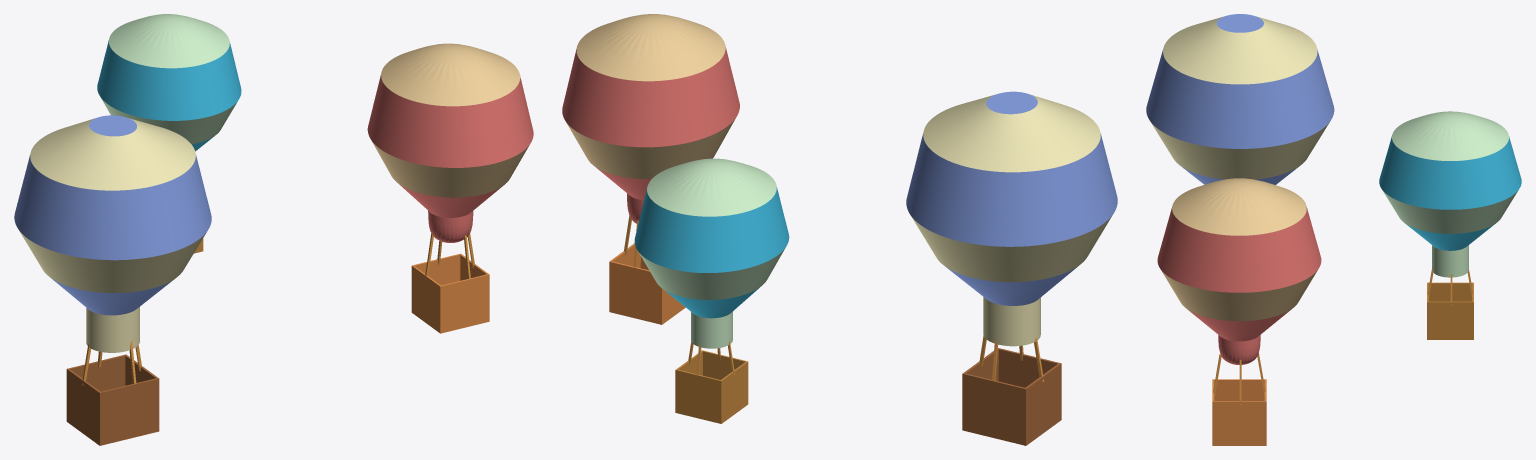
Rendered from balloon_bot02.glb.
3 views of the same model, side by side, from view 1: azimuth 30°, elevation 25°; view 2: azimuth 150°, elevation 25°; view 3: azimuth 270°, elevation 25° (orthographic). The views are drawn at different scales.
Parts seen in each view (by area): view 1: Cylinder.013_24, Cylinder.004_15, Cylinder.012_23, Cylinder.008_19, Cube.003_6, Cylinder.003_14, Cylinder.007_18, Cube.006_10, Cylinder.014_25, Cylinder.005_16, Cylinder.016_27, Cylinder.015_26 (+4 smaller); view 2: Cylinder.013_24, Cylinder.004_15, Cylinder.012_23, Cylinder.008_19, Cylinder.003_14, Cube.003_6, Cylinder.007_18, Cylinder.014_25, Cube_0, Cylinder.005_16, Cube.006_10, Cylinder.009_20 (+6 smaller); view 3: Cylinder.013_24, Cylinder.004_15, Cylinder.012_23, Cylinder.008_19, Cylinder.003_14, Cylinder.007_18, Cylinder.014_25, Cube.006_10, Cylinder.005_16, Cube_0, Cylinder.009_20, Cylinder.006_17 (+5 smaller).
Part boxes in pixels (x1=…): Cylinder.013_24: x1=14, y1=155, x2=211, y2=260; Cylinder.004_15: x1=367, y1=75, x2=533, y2=167; Cylinder.012_23: x1=30, y1=118, x2=195, y2=190; Cylinder.008_19: x1=97, y1=40, x2=241, y2=120; Cube.003_6: x1=66, y1=354, x2=159, y2=445; Cylinder.003_14: x1=381, y1=43, x2=520, y2=106; Cylinder.007_18: x1=109, y1=14, x2=229, y2=68; Cube.006_10: x1=411, y1=253, x2=489, y2=333; Cylinder.014_25: x1=19, y1=230, x2=206, y2=293; Cylinder.005_16: x1=372, y1=141, x2=529, y2=197; Cylinder.016_27: x1=86, y1=307, x2=139, y2=352; Cylinder.015_26: x1=51, y1=278, x2=174, y2=315; Cylinder.013_24: x1=906, y1=133, x2=1117, y2=246; Cylinder.004_15: x1=562, y1=47, x2=739, y2=147; Cylinder.012_23: x1=923, y1=94, x2=1100, y2=172; Cylinder.008_19: x1=634, y1=187, x2=789, y2=272; Cylinder.003_14: x1=576, y1=14, x2=725, y2=81; Cube.003_6: x1=962, y1=348, x2=1061, y2=445; Cylinder.007_18: x1=647, y1=158, x2=776, y2=216; Cylinder.014_25: x1=911, y1=215, x2=1112, y2=282; Cube_0: x1=675, y1=350, x2=748, y2=423; Cylinder.005_16: x1=566, y1=118, x2=735, y2=178; Cube.006_10: x1=609, y1=243, x2=685, y2=324; Cylinder.009_20: x1=638, y1=249, x2=784, y2=299; Cylinder.013_24: x1=1146, y1=49, x2=1334, y2=148; Cylinder.004_15: x1=1157, y1=207, x2=1321, y2=292; Cylinder.012_23: x1=1163, y1=17, x2=1317, y2=84; Cylinder.008_19: x1=1379, y1=136, x2=1521, y2=209; Cylinder.003_14: x1=1172, y1=178, x2=1306, y2=235; Cylinder.007_18: x1=1392, y1=111, x2=1508, y2=160; Cylinder.014_25: x1=1151, y1=122, x2=1329, y2=179; Cube.006_10: x1=1212, y1=379, x2=1266, y2=445; Cylinder.005_16: x1=1161, y1=270, x2=1317, y2=321; Cube_0: x1=1427, y1=282, x2=1473, y2=339; Cylinder.009_20: x1=1382, y1=190, x2=1518, y2=233; Cylinder.006_17: x1=1187, y1=309, x2=1291, y2=341.
Size of the model in its own units: 25.05 by 14.61 by 17.6.
